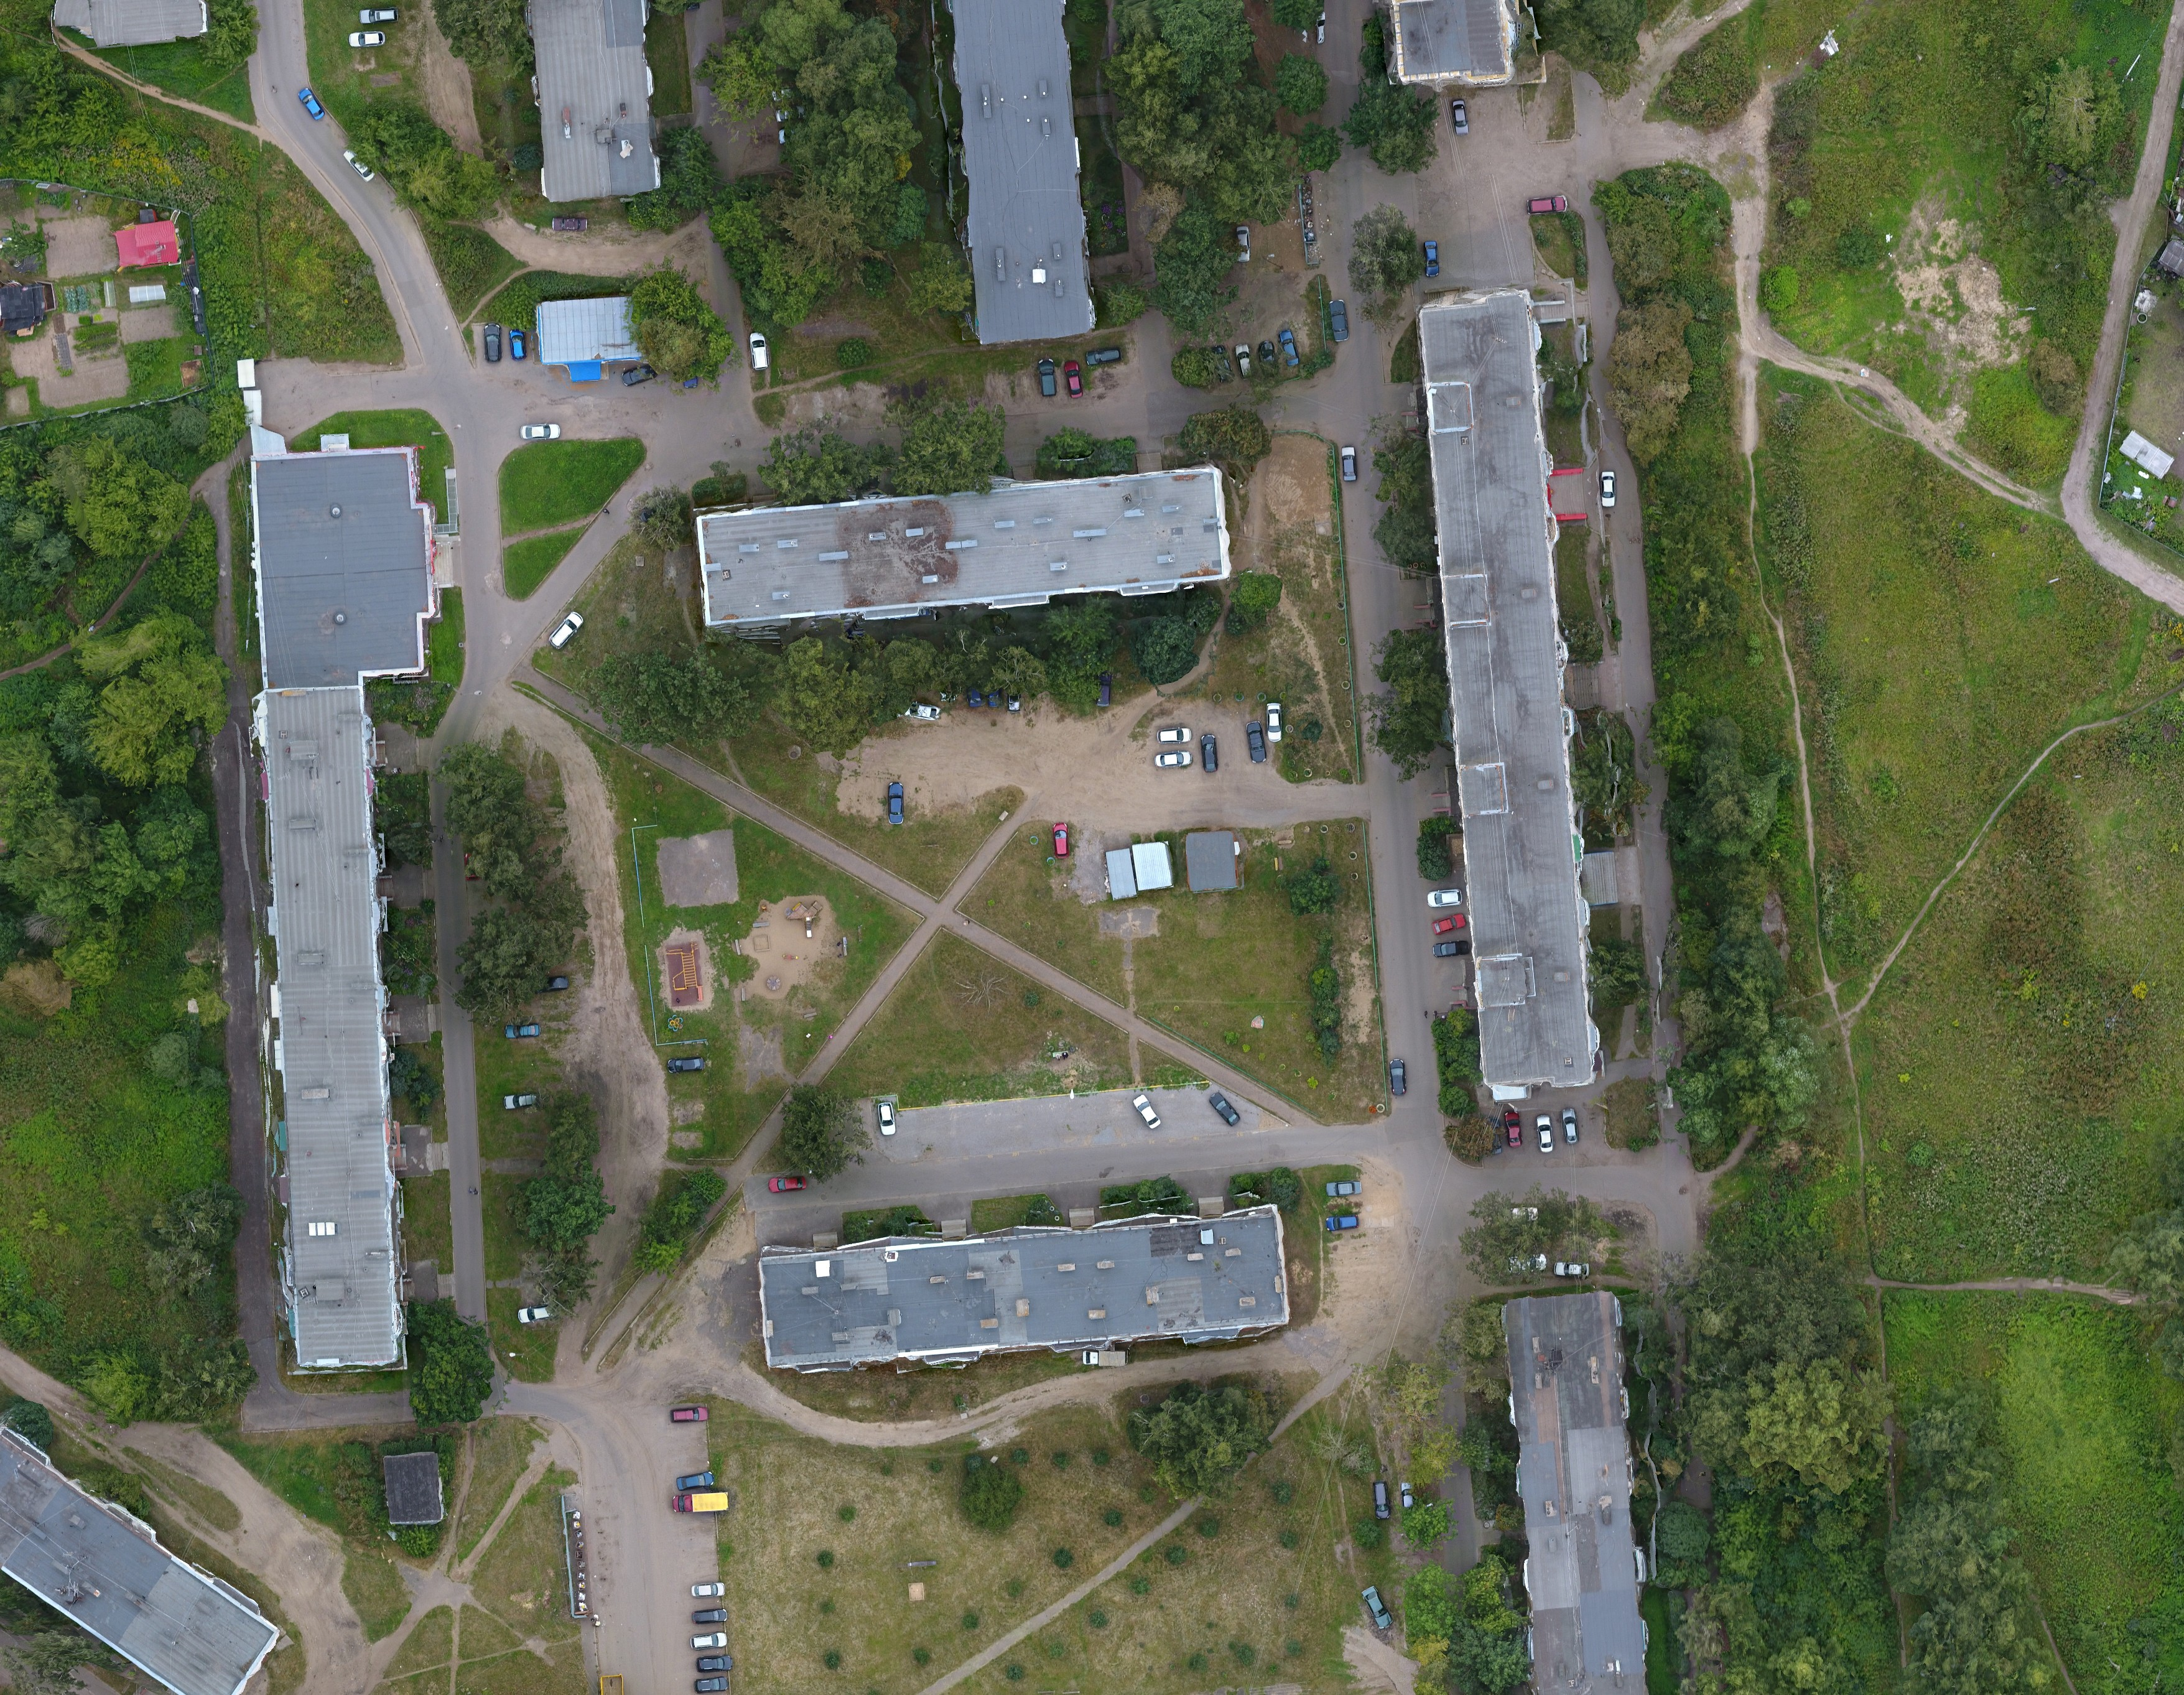build: (230, 424, 452, 1394), (1409, 289, 1629, 1094), (752, 1190, 1326, 1390), (688, 445, 1267, 642), (0, 1376, 291, 1693), (1477, 1273, 1675, 1695), (922, 0, 1119, 363), (521, 2, 674, 209), (1384, 2, 1535, 90), (27, 0, 213, 55), (117, 218, 179, 266)
